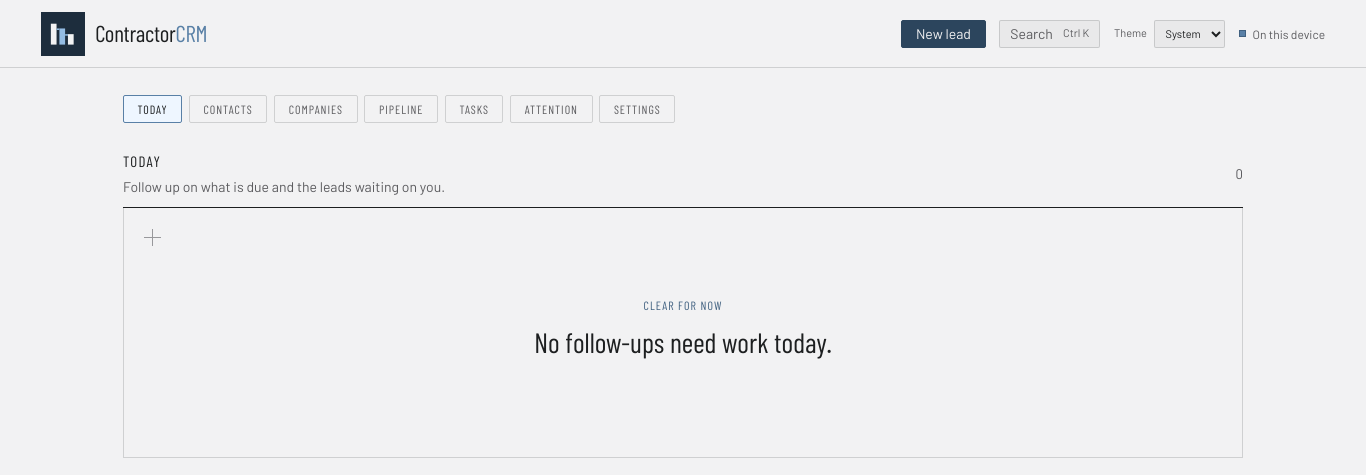
Test: accessibility › announces an attention explanation through a live region
This screenshot has width=1366, height=475.
Click the button "Attention".
click(551, 109)  # box [510,95,593,123]
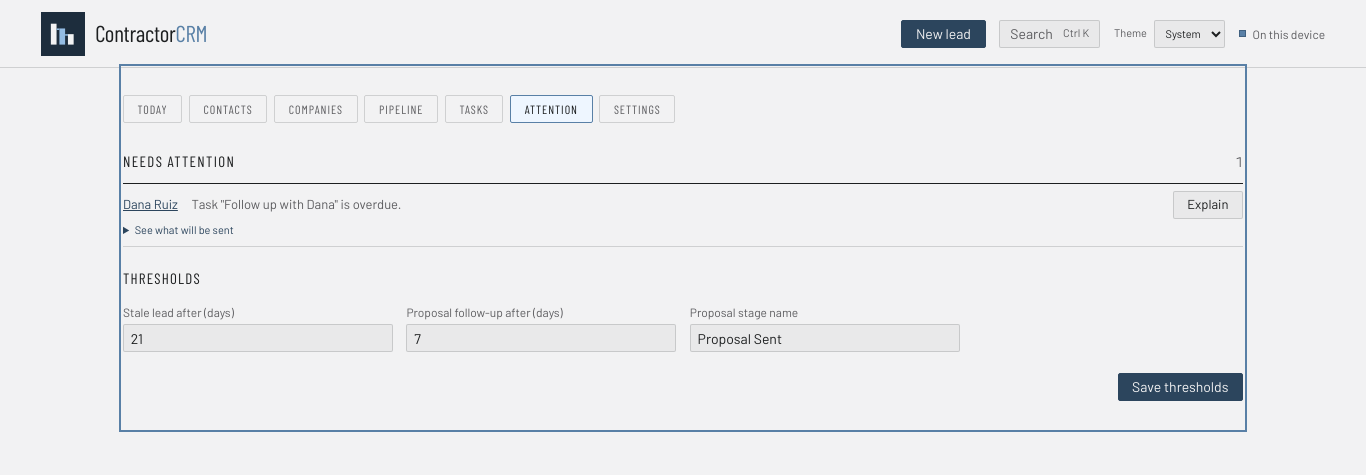
Click the button with aria-label "Explain Dana Ruiz".
click(1208, 205)  # box [1173,191,1243,219]
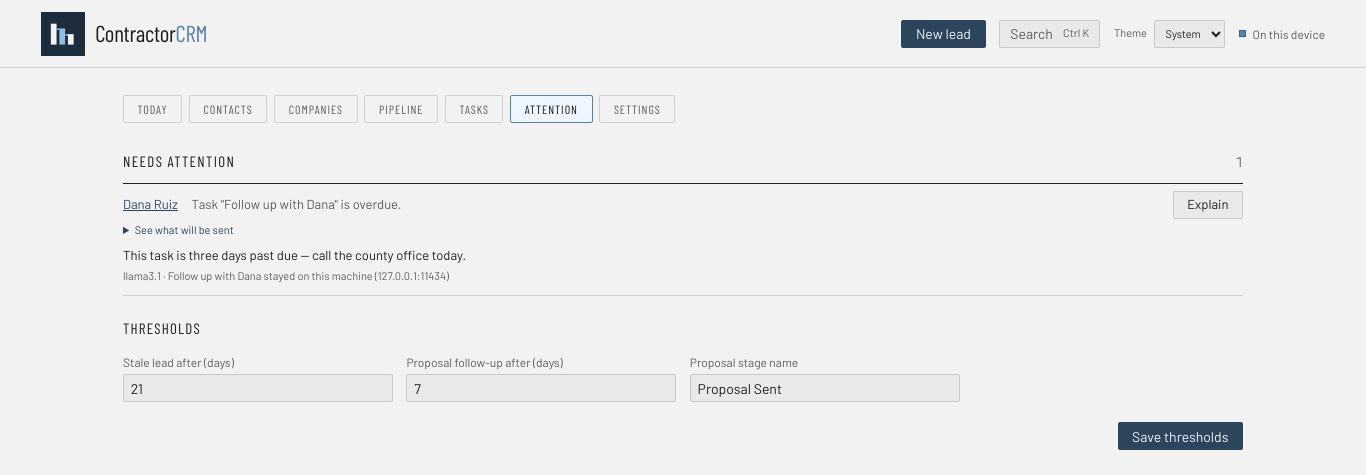
Expected: the 2nd message shows ".", [123,246,466,282]
